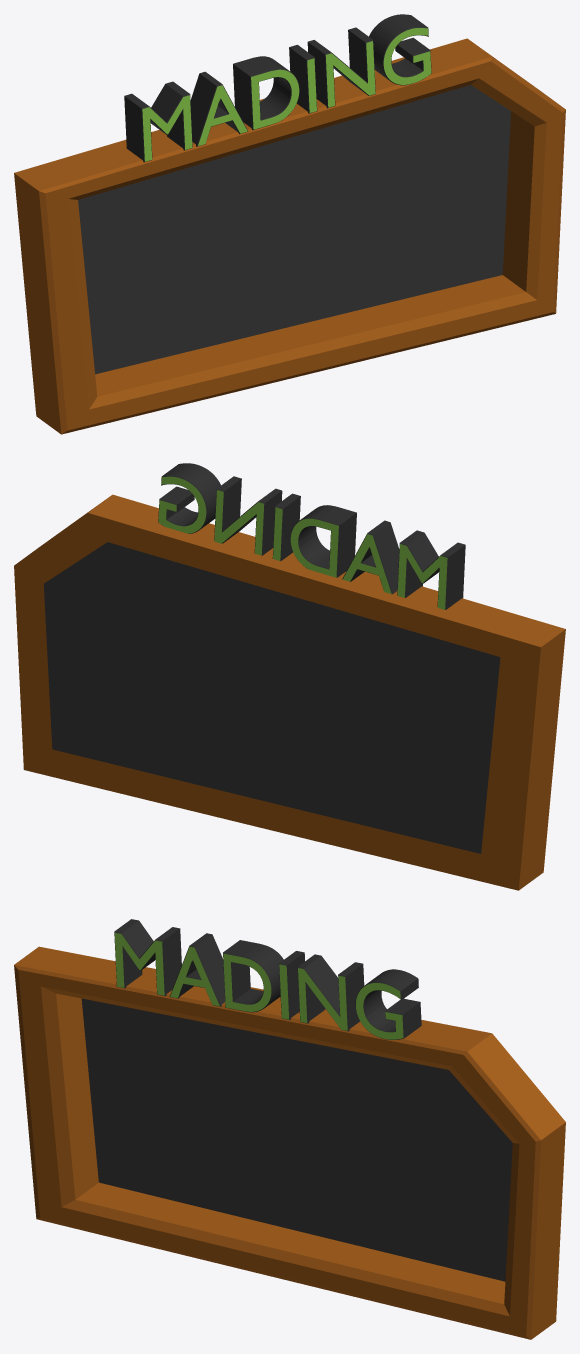
Rendered from Mading.fbx.
3 renders of one model, top to bottom at view 1: azimuth 30°, elevation 25°; view 2: azimuth 150°, elevation 25°; view 3: azimuth 330°, elevation 25°, orthographic.
Parts seen in each view (by area): view 1: mading; view 2: mading; view 3: mading.
Part boxes in pixels (x1,y1,x2,y2): mading: [14, 14, 565, 434]; mading: [14, 463, 565, 890]; mading: [14, 919, 565, 1339].
Size of the model in its own units: 703 by 411 by 62.38.
